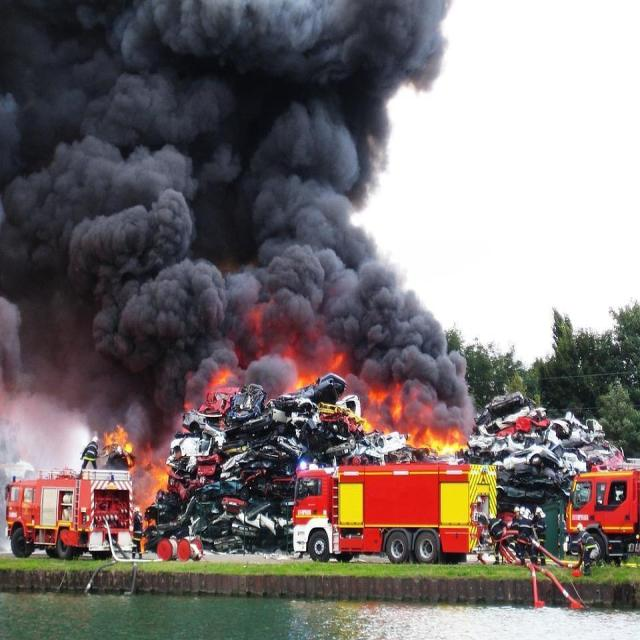Fire: (355, 378, 475, 459), (103, 418, 170, 526), (278, 338, 346, 403), (177, 364, 240, 422)
